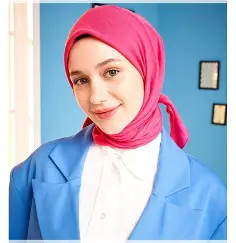kemeja_salah: (13, 134, 228, 243)
kerudung_benar: (62, 10, 177, 136)
